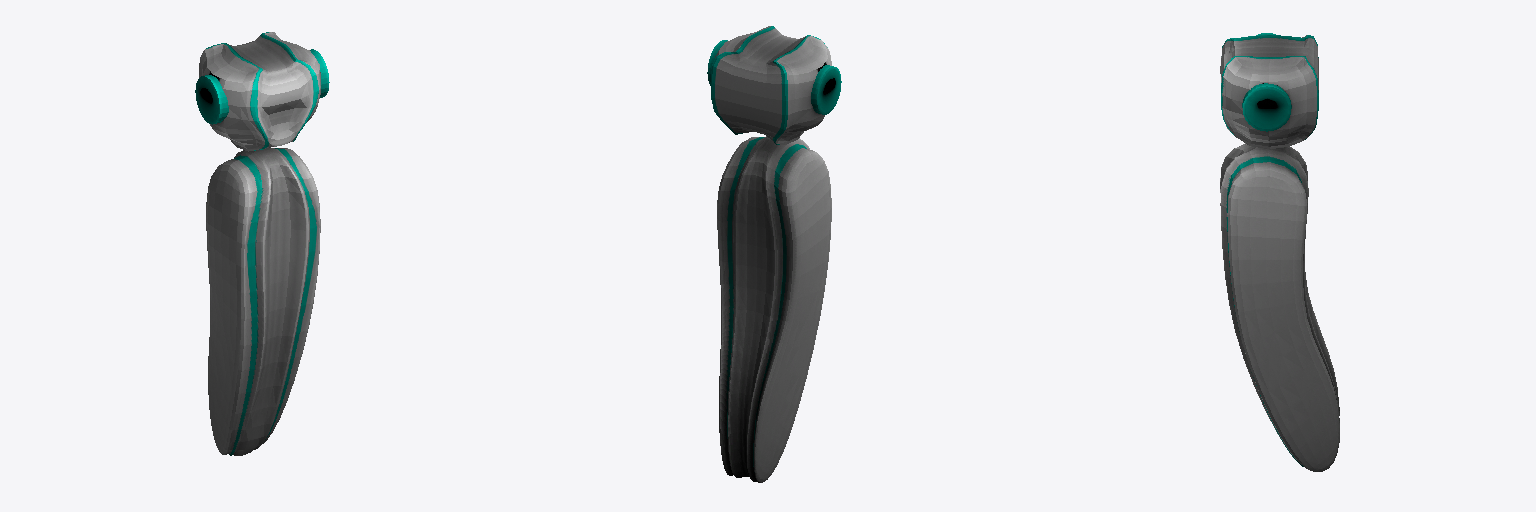
3 views of the same model, side by side, from view 1: azimuth 30°, elevation 25°; view 2: azimuth 150°, elevation 25°; view 3: azimuth 270°, elevation 25° (orthographic).
Visible parts, largest first — view 1: Body; view 2: Body; view 3: Body.
Part boxes in pixels (x1,y1,x2,y2): Body: (195,32,329,455); Body: (707,26,841,482); Body: (1220,33,1339,471).
Size of the model in its own units: 0.3429 by 1.24 by 0.3209.
1 materials, 1 textured.